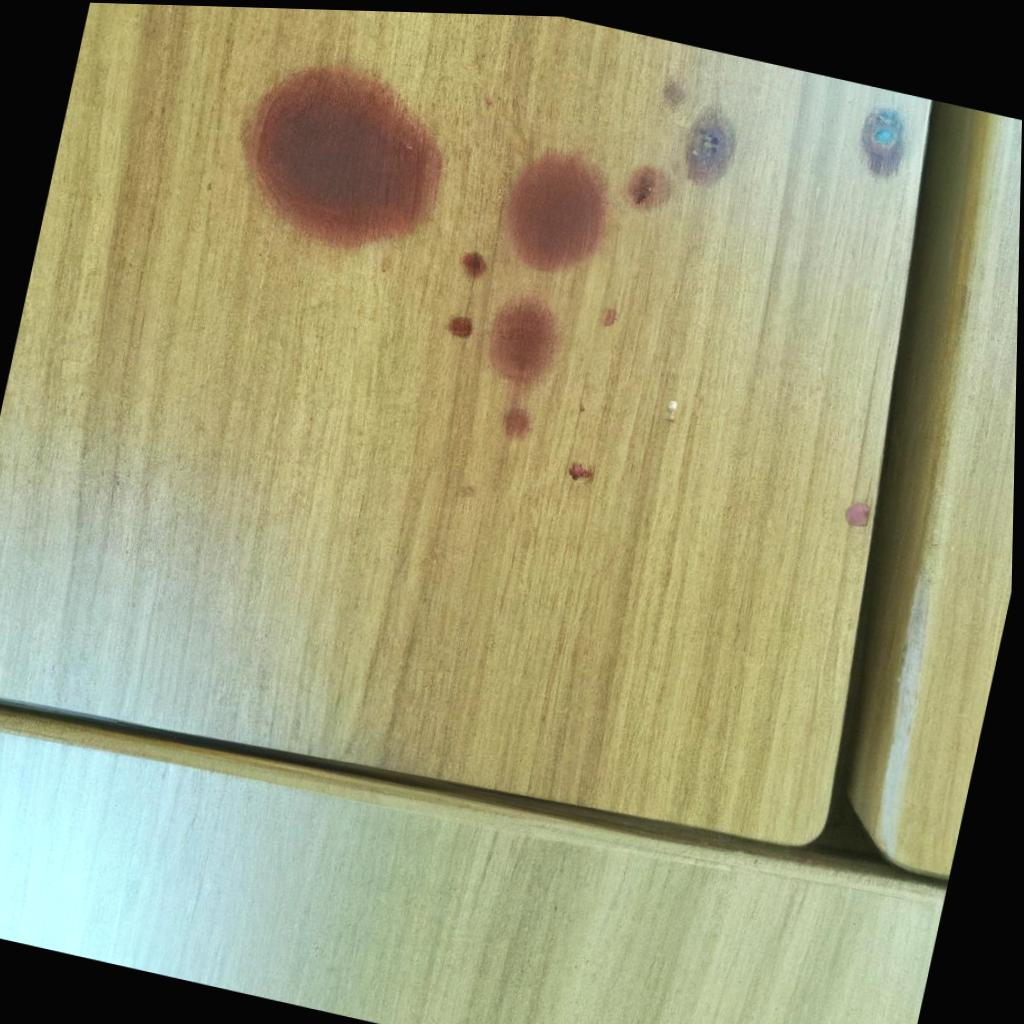Fire: (244, 64, 445, 250), (506, 147, 609, 270), (490, 293, 563, 437), (627, 161, 674, 207), (464, 248, 490, 274), (451, 312, 475, 335)
